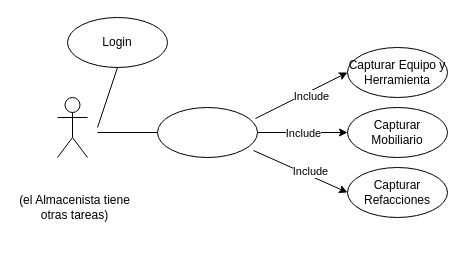
This 465x255 diagram has some shape labels left out. Each missing label, with the centre of its shape:
"Capturista" belongs at point 72,127.
"Inventario" belongs at point 207,132.
